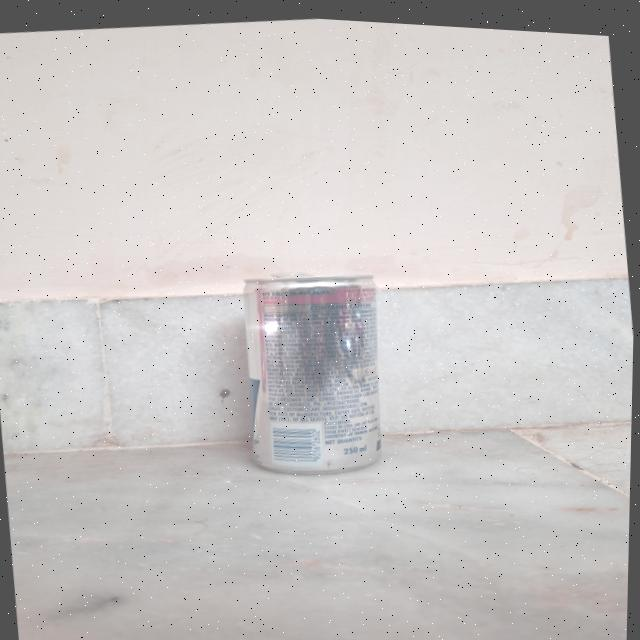Redbul: (214, 243, 415, 478)
